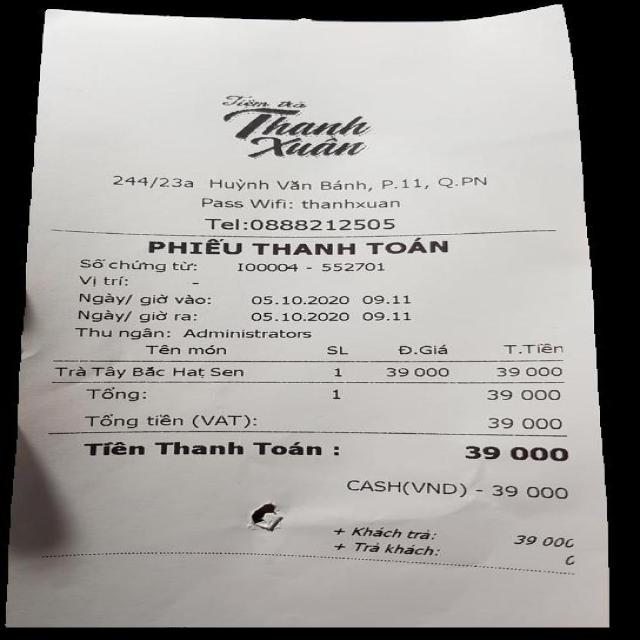Date: (245, 306, 354, 326)
Store_Name: (219, 90, 384, 163)
amount_number: (458, 439, 574, 466)
label_total: (76, 438, 326, 460)
